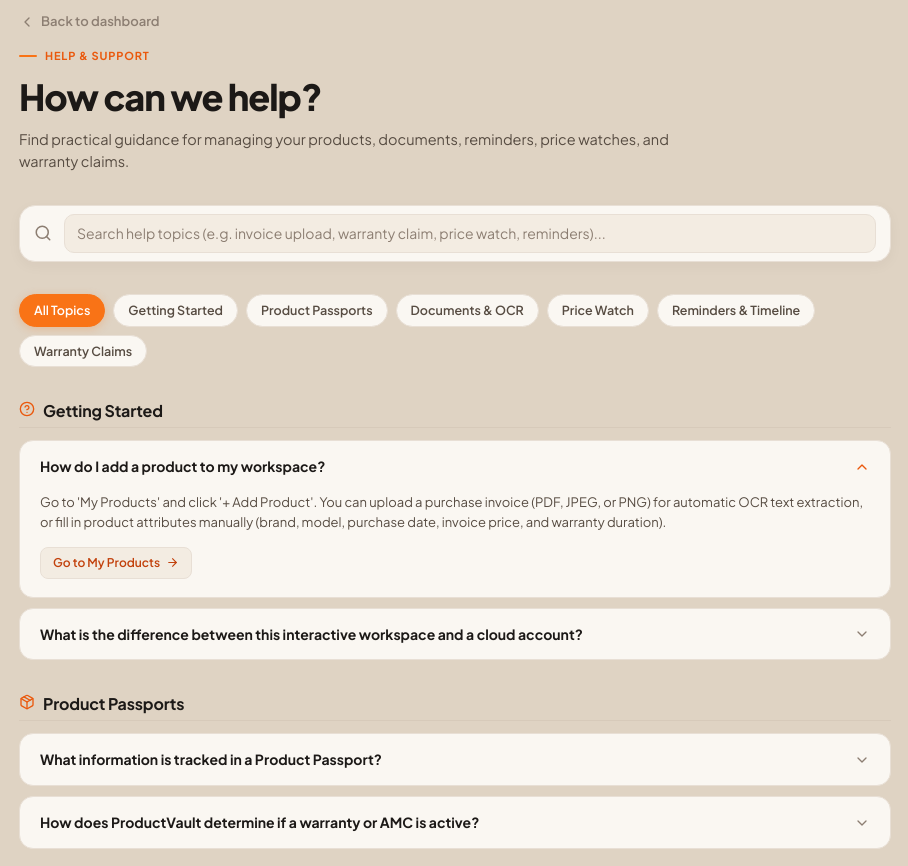
Test: HelpSupport › filters FAQs by category pill
This screenshot has width=908, height=866.
Click the tab "Price Watch": (598,310) [547,294,649,327]
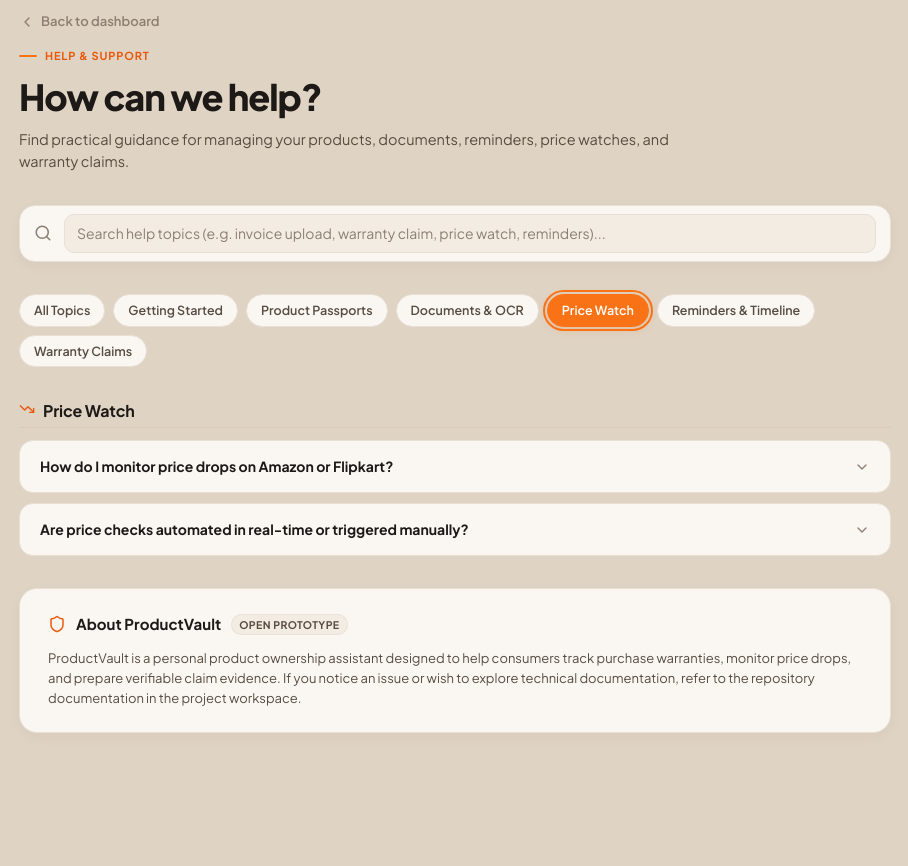
Expected: the text "How do I monitor price drops on Amazon or Flipkart?" is shown, [40,457,393,476]
Now the button "What information is tracked in a Product Passport?" is gone
